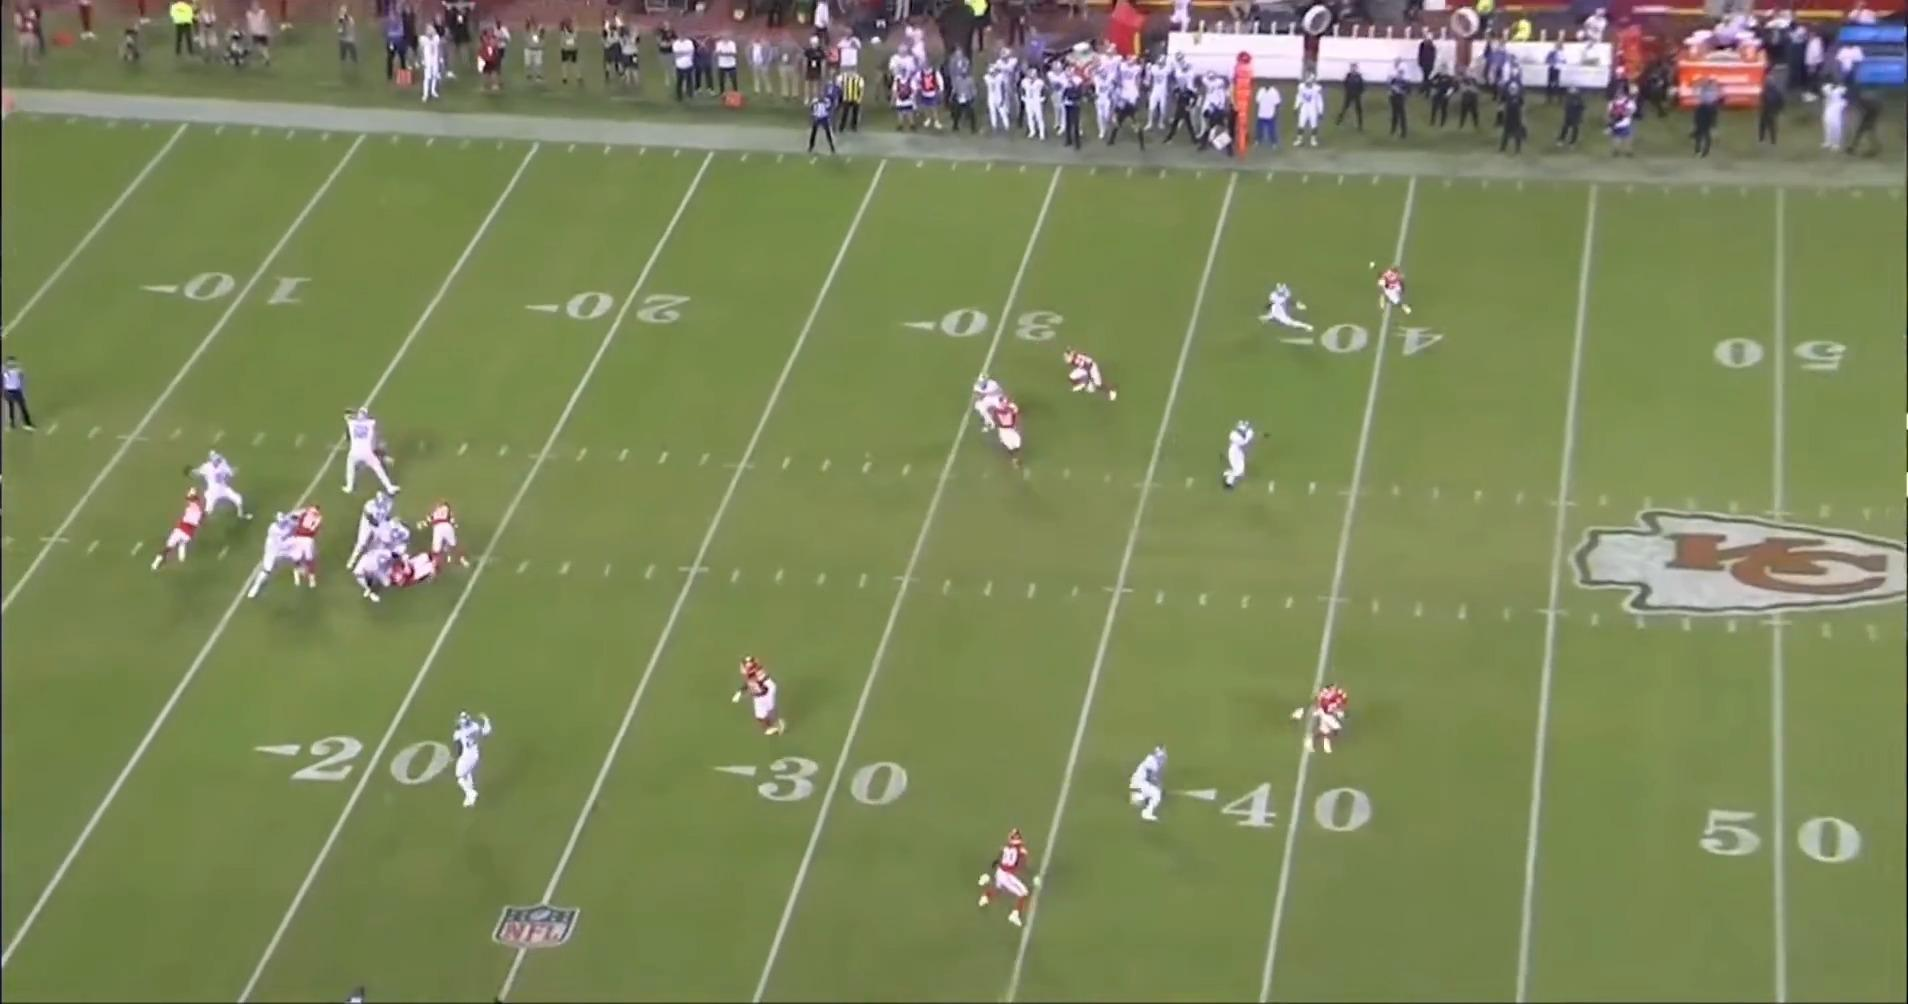defense: (975, 830, 1044, 933), (736, 652, 795, 738), (156, 497, 212, 575), (1295, 680, 1349, 758), (286, 502, 331, 593), (1059, 344, 1121, 405), (419, 498, 467, 573), (980, 396, 1022, 474), (1374, 262, 1415, 320), (395, 550, 447, 592)
oline: (344, 405, 406, 496), (246, 513, 307, 605), (353, 537, 396, 607), (355, 489, 397, 549), (376, 518, 411, 549)
qb: (188, 445, 255, 525)
ref: (6, 358, 48, 441), (801, 88, 843, 160)
skill: (448, 709, 496, 815), (1126, 744, 1174, 826), (1219, 414, 1266, 492), (1267, 279, 1317, 334), (974, 371, 1011, 438)
